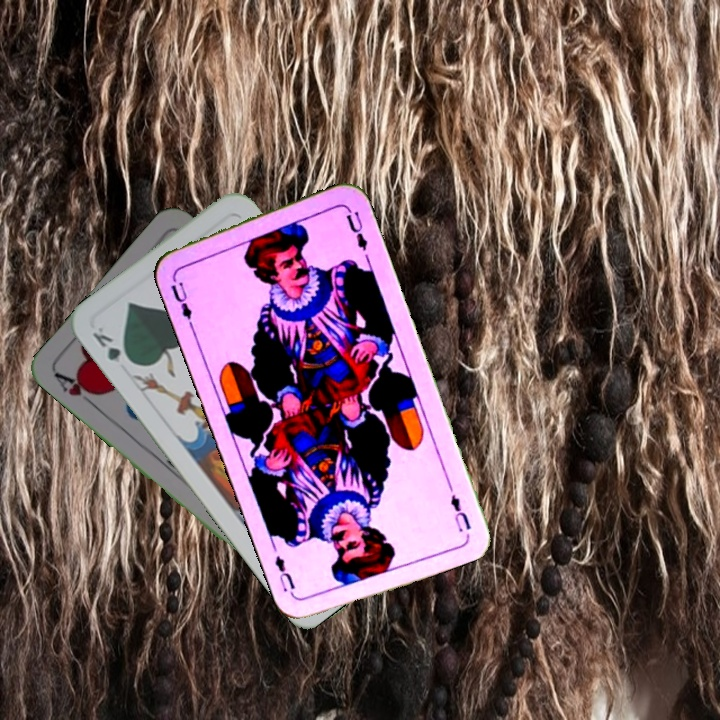EU: (166, 270, 195, 328), (446, 490, 473, 535)
GK: (88, 322, 136, 368)
HA: (51, 369, 103, 412)
